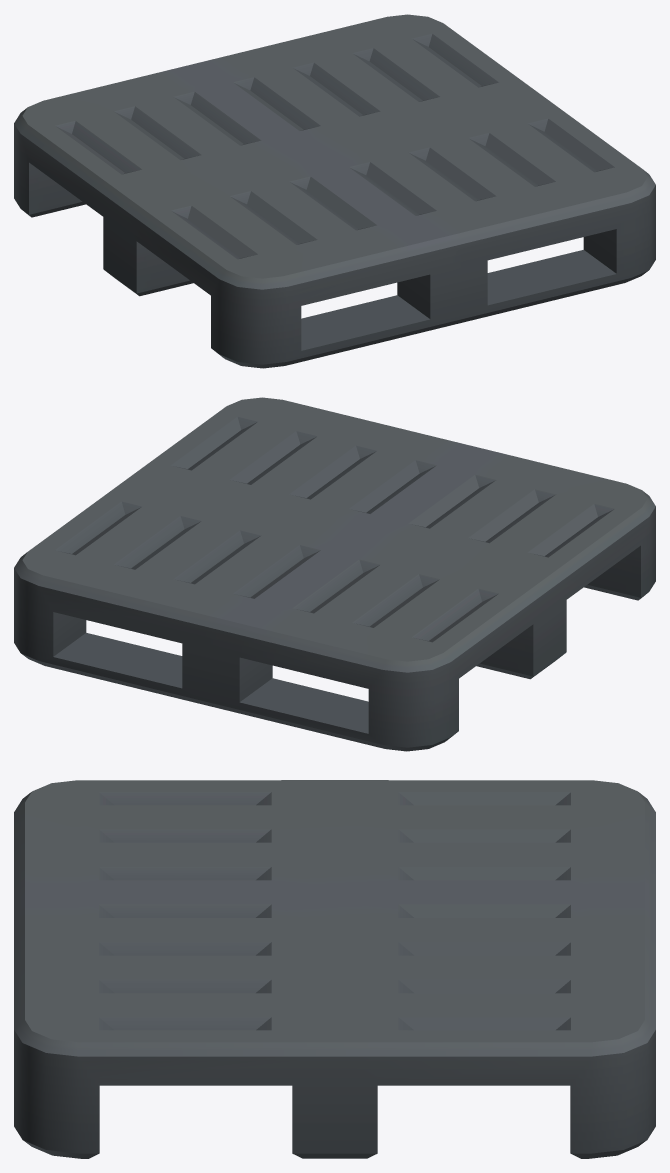
File: pallet_plastic_grey.glb
3 renders of one model, top to bottom at view 1: azimuth 30°, elevation 25°; view 2: azimuth 150°, elevation 25°; view 3: azimuth 270°, elevation 25°, orthographic. The views are drawn at different scales.
Visible parts, largest first — view 1: Pallet_Plastic_Grey; view 2: Pallet_Plastic_Grey; view 3: Pallet_Plastic_Grey.
Part boxes in pixels (x1,y1,x2,y2): Pallet_Plastic_Grey: [14, 14, 655, 368]; Pallet_Plastic_Grey: [14, 397, 655, 751]; Pallet_Plastic_Grey: [14, 780, 655, 1158].
Size of the model in its own units: 1.5 by 0.2999 by 1.5.
1 material, 1 textured.
